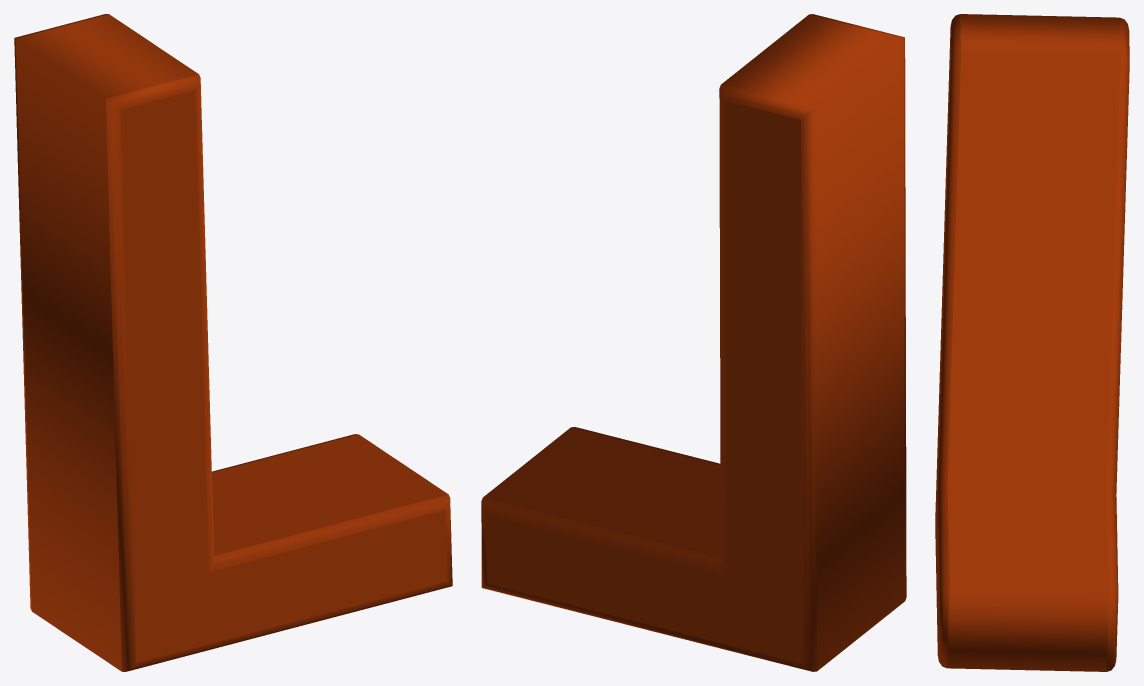
The model's file is letters_L.obj.
3 views of the same model, side by side, from view 1: azimuth 30°, elevation 25°; view 2: azimuth 150°, elevation 25°; view 3: azimuth 270°, elevation 25° (orthographic). The views are drawn at different scales.
Parts seen in each view (by area): view 1: Text; view 2: Text; view 3: Text.
Boxes of the visible parts, box(x1,y1,x2,y2) form: Text: box(14, 14, 452, 671); Text: box(481, 14, 906, 671); Text: box(935, 14, 1129, 671).
Size of the model in its own units: 0.4411 by 0.7129 by 0.2439.
